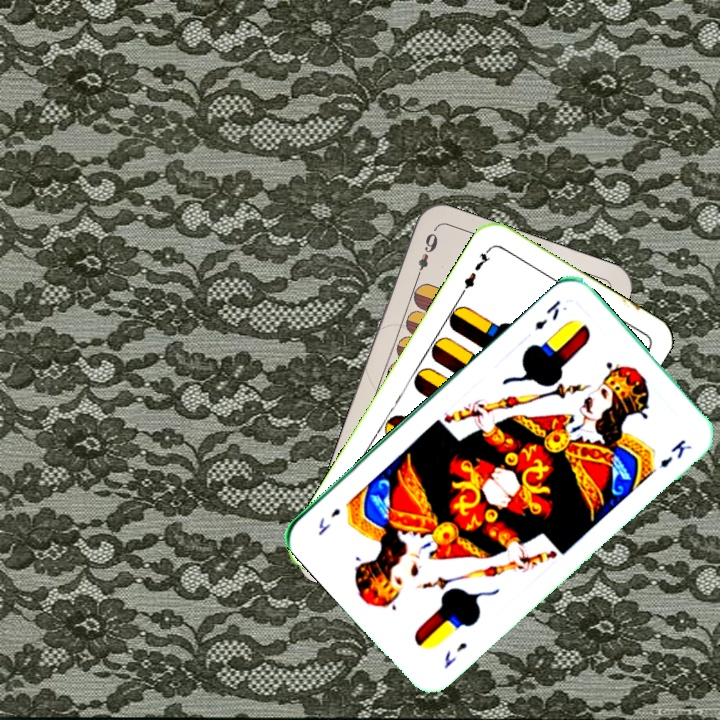E7: (457, 244, 494, 297)
E9: (411, 228, 441, 283)
EK: (530, 296, 563, 333), (439, 638, 470, 671)
